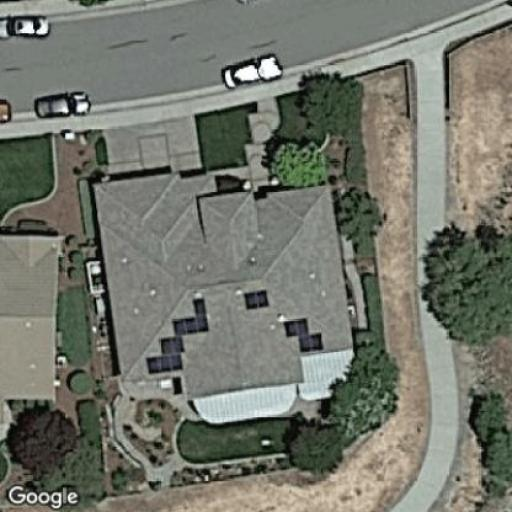solar-panel: (142, 296, 212, 376), (282, 315, 326, 355), (240, 286, 272, 313)
